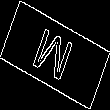M_SW: (31, 23, 79, 87)
